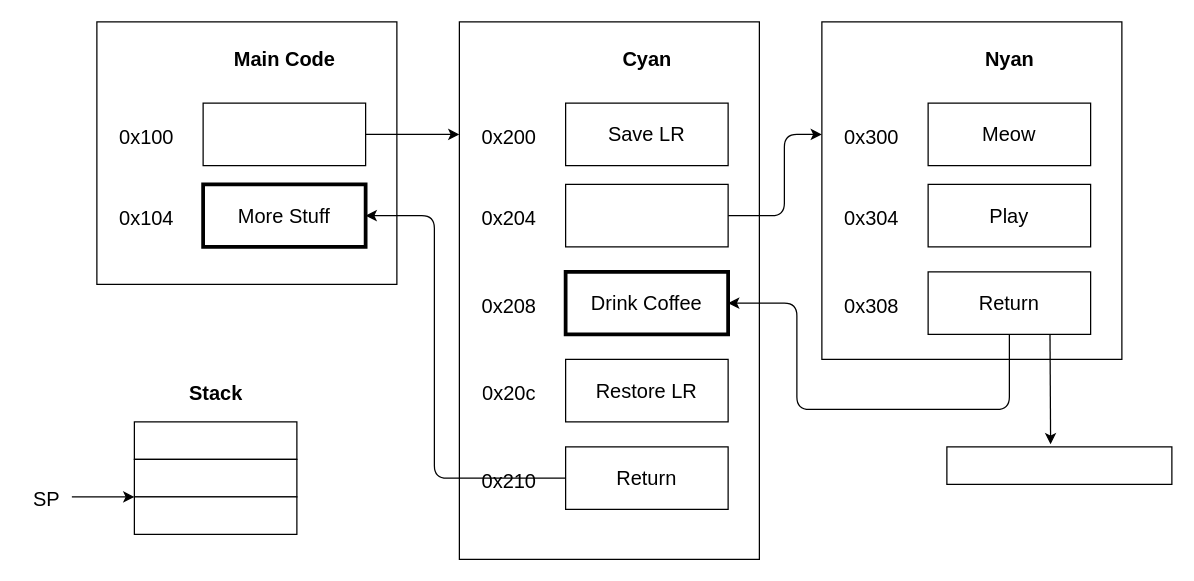
This 1194x581 diagram has some shape labels left out. Each missing label, with the centre of its shape:
"Call Cyan" belongs at point 284,134.
"Call Nyan" belongs at point 646,215.
"Link Register: 0x208" belongs at point 1059,465.
"LR = 0x104" belongs at point 215,515.
